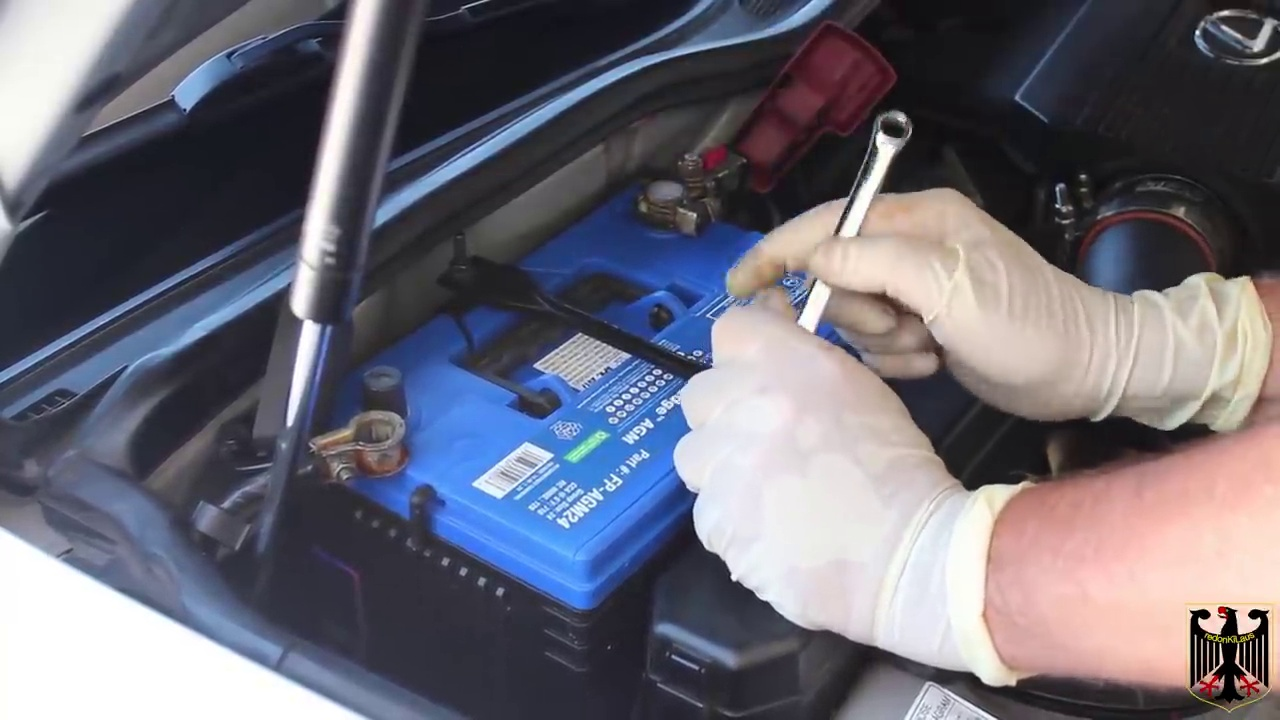battery: (336, 169, 865, 563)
pos_connected: (628, 70, 805, 222)
